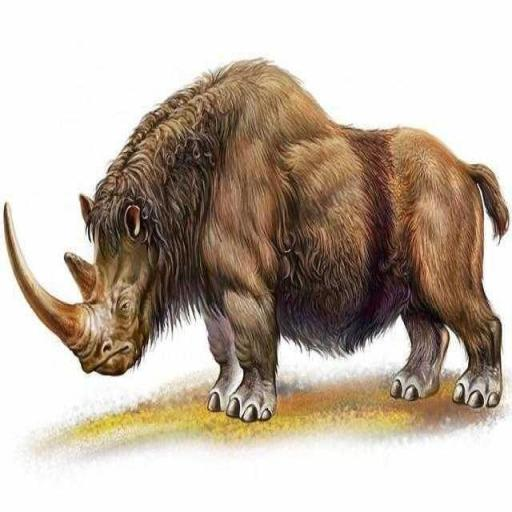Rhino: (2, 55, 510, 423)
